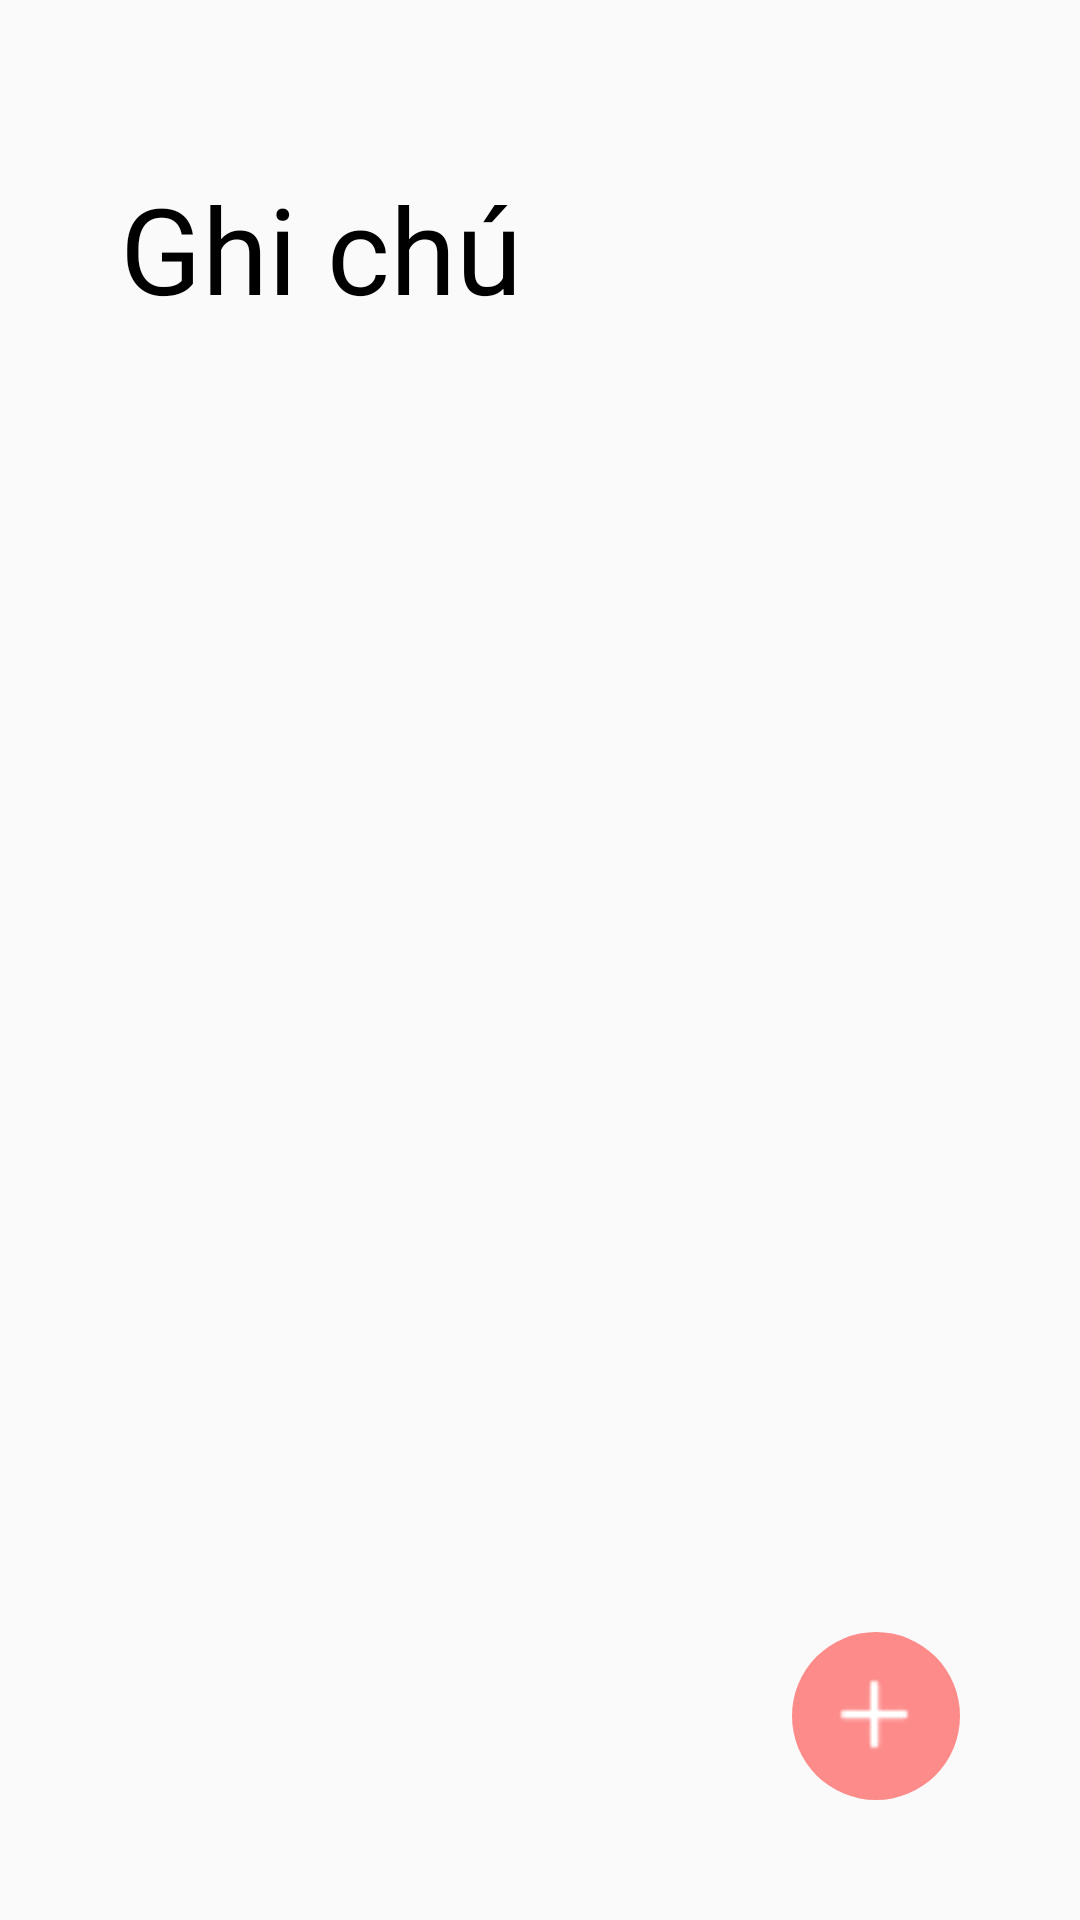

Locate icon controls on the screen. Image size 1080 × 1920, boxes as {"left": x1, "top": y1, "right": x2, "bottom": y2}.
add: {"left": 792, "top": 1632, "right": 960, "bottom": 1800}
